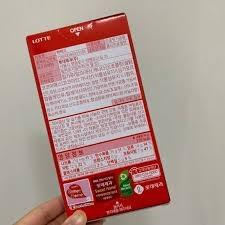snack: (25, 11, 171, 222)
